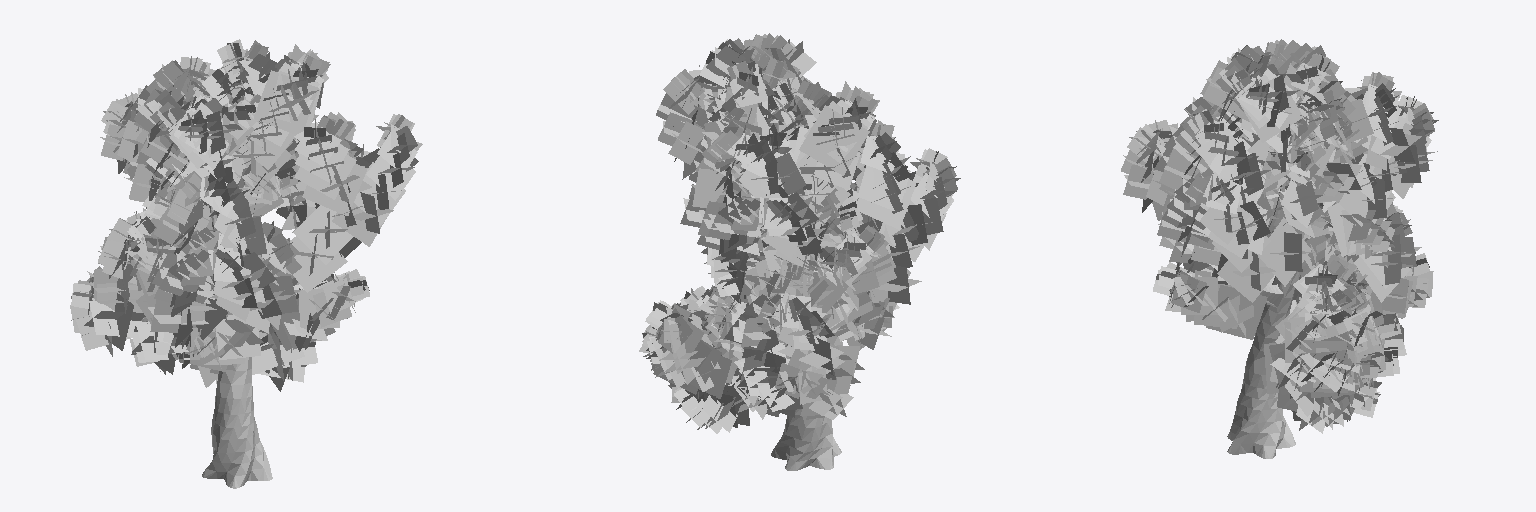
The model's file is TwistedTree_3.obj.
3 renders of one model, left to right at view 1: azimuth 30°, elevation 25°; view 2: azimuth 150°, elevation 25°; view 3: azimuth 270°, elevation 25°, orthographic.
Visible parts, largest first — view 1: TwistedTree_3; view 2: TwistedTree_3; view 3: TwistedTree_3.
Boxes of the visible parts, x1=… form: TwistedTree_3: x1=70, y1=39, x2=422, y2=488; TwistedTree_3: x1=639, y1=33, x2=960, y2=470; TwistedTree_3: x1=1121, y1=39, x2=1438, y2=458.
Size of the model in its own units: 11.36 by 16.07 by 11.51.